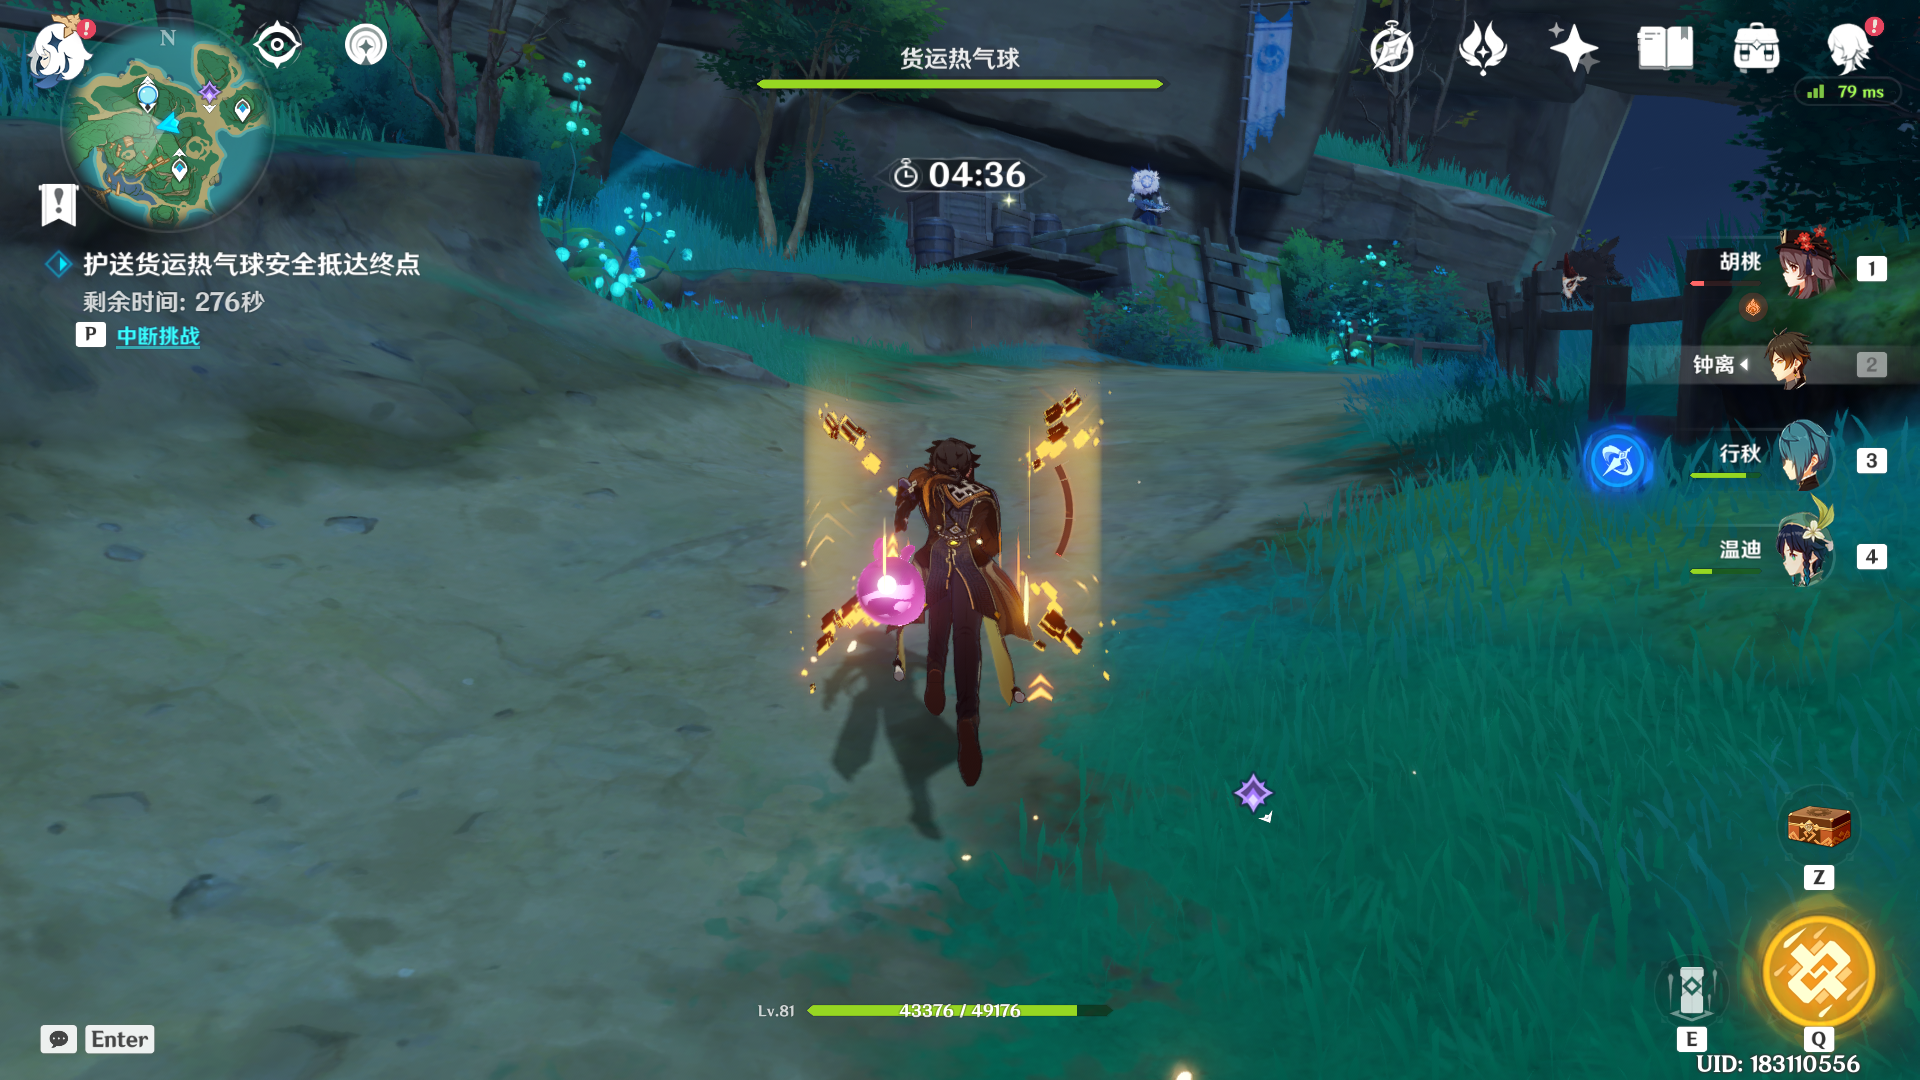character: (786, 353, 1137, 856)
hili: (1101, 166, 1188, 245)
